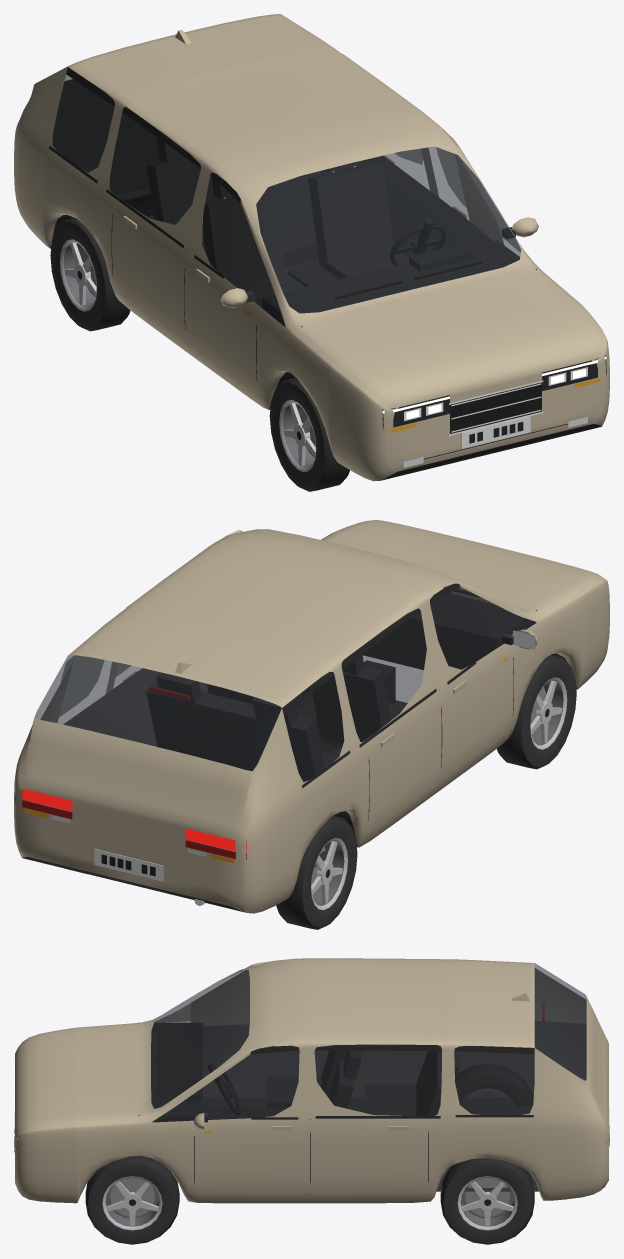
Rendered from suv_beige.glb.
3 renders of one model, top to bottom at view 1: azimuth 30°, elevation 25°; view 2: azimuth 150°, elevation 25°; view 3: azimuth 270°, elevation 25°, orthographic. The views are drawn at different scales.
Parts seen in each view (by area): view 1: suv_beige_body, Wheel_RR, Wheel_FR; view 2: suv_beige_body, Wheel_FR, Wheel_RR; view 3: suv_beige_body, Wheel_FL, Wheel_RL, Wheel_RR.
Boxes of the visible parts, bbox=[...] form: suv_beige_body: bbox=[14, 14, 609, 481]; Wheel_RR: bbox=[50, 217, 130, 331]; Wheel_FR: bbox=[269, 377, 349, 491]; suv_beige_body: bbox=[14, 520, 609, 913]; Wheel_FR: bbox=[497, 655, 576, 769]; Wheel_RR: bbox=[276, 816, 357, 929]; suv_beige_body: bbox=[14, 958, 609, 1203]; Wheel_FL: bbox=[85, 1155, 179, 1244]; Wheel_RL: bbox=[440, 1157, 534, 1244]; Wheel_RR: bbox=[455, 1064, 533, 1106].
Size of the model in its own units: 0.1198 by 0.0903 by 0.2408.
Materials: 8 (1 with a texture image).
